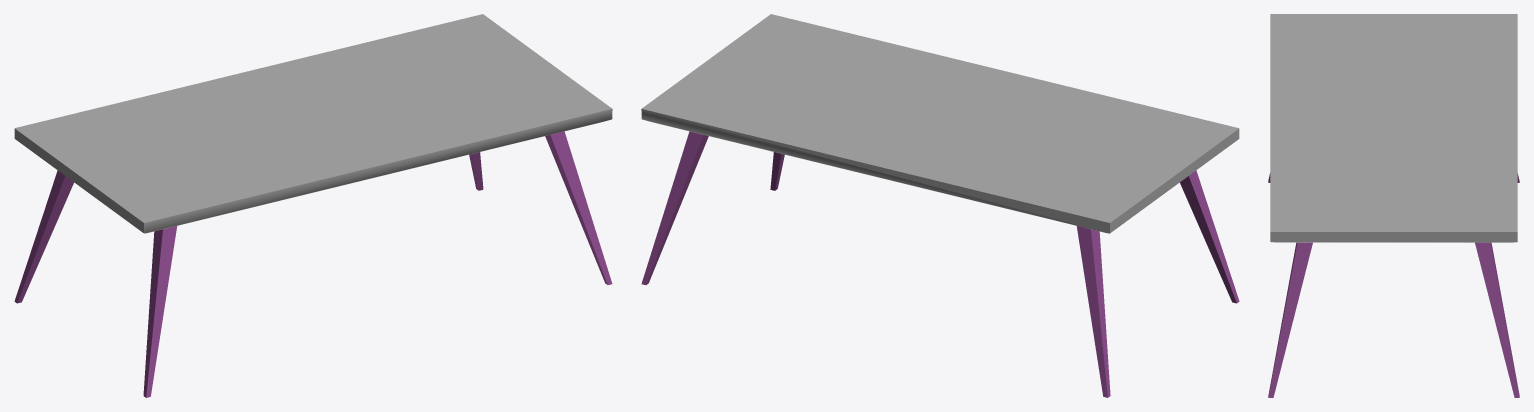
File: table-low-poly 1.fbx
3 renders of one model, left to right at view 1: azimuth 30°, elevation 25°; view 2: azimuth 150°, elevation 25°; view 3: azimuth 270°, elevation 25°, orthographic. The views are drawn at different scales.
Parts seen in each view (by area): view 1: table_top_NEW, big_good_table_leg_3, big_good_table_leg_1, big_good_table_leg_4; view 2: table_top_NEW, big_good_table_leg_4, big_good_table_leg_2, big_good_table_leg_3; view 3: table_top_NEW, big_good_table_leg_1, big_good_table_leg_2.
Boxes of the visible parts, left/top/right/bottom form: table_top_NEW: left=14, top=14, right=612, bottom=233; big_good_table_leg_3: left=143, top=226, right=177, bottom=397; big_good_table_leg_1: left=545, top=131, right=612, bottom=284; big_good_table_leg_4: left=14, top=170, right=73, bottom=303; table_top_NEW: left=641, top=14, right=1239, bottom=233; big_good_table_leg_4: left=1076, top=226, right=1110, bottom=397; big_good_table_leg_2: left=641, top=131, right=708, bottom=285; big_good_table_leg_3: left=1180, top=170, right=1239, bottom=303; table_top_NEW: left=1270, top=14, right=1517, bottom=242; big_good_table_leg_1: left=1268, top=242, right=1312, bottom=397; big_good_table_leg_2: left=1475, top=242, right=1519, bottom=397.
Bounding box in the file's own units: 2.12 × 0.7535 × 1.03.
